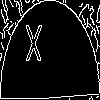X: (25, 24, 43, 72)
